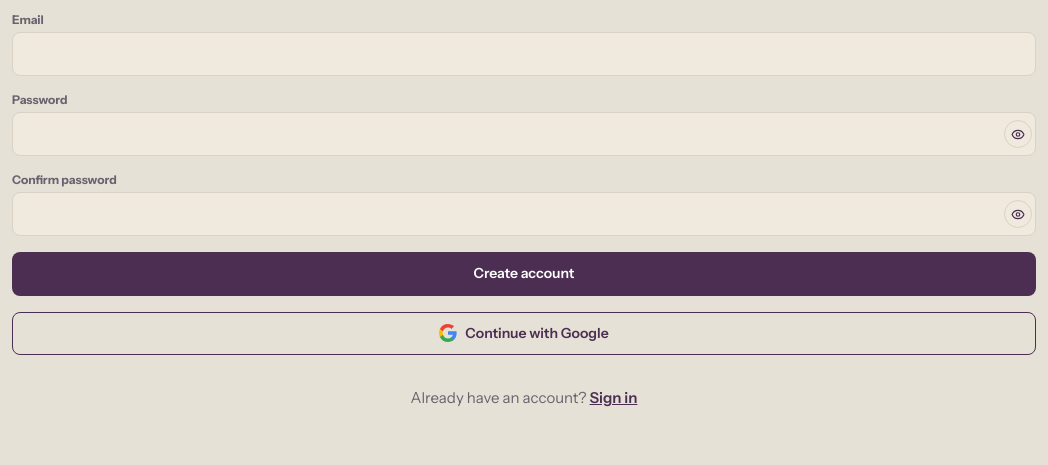
Test: SignUpForm › blocks submission and shows all field errors when the passwords don't match
Type "new@example.com" into the field labelled "Email" at (524, 54), box [12,32,1036,76]
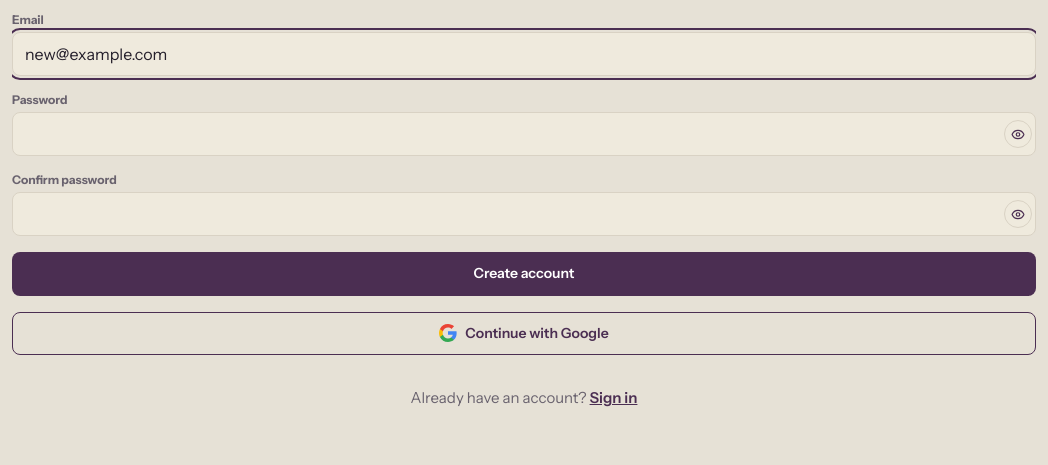
Type "longenough" into the password field labelled "Password" at (524, 134), box [12,112,1036,156]
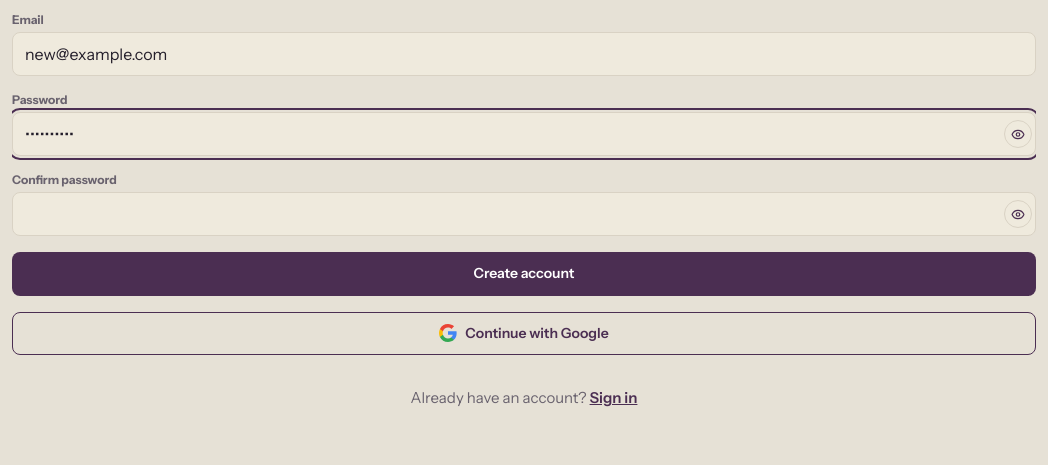
Type "different" into the password field labelled "Confirm password" at (524, 214), box [12,192,1036,236]
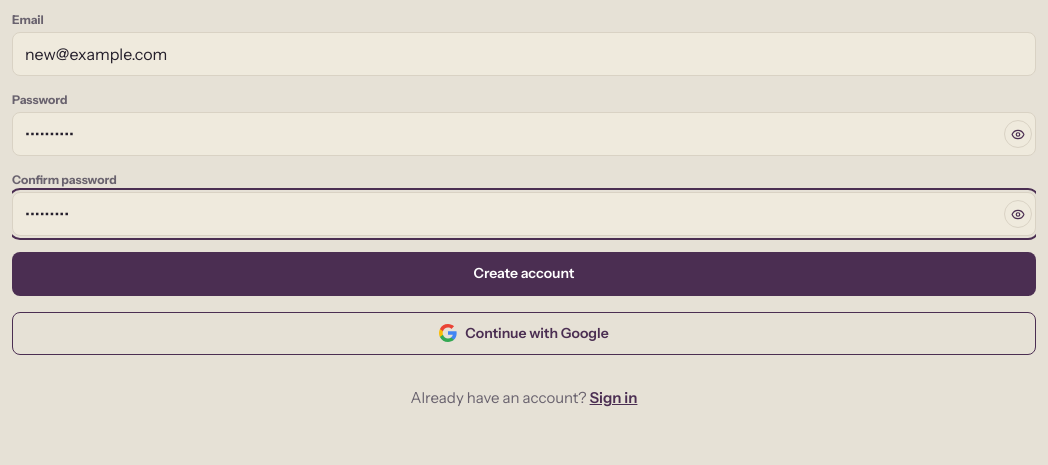
Click the button "Create account" at (524, 274), box [12,252,1036,296]
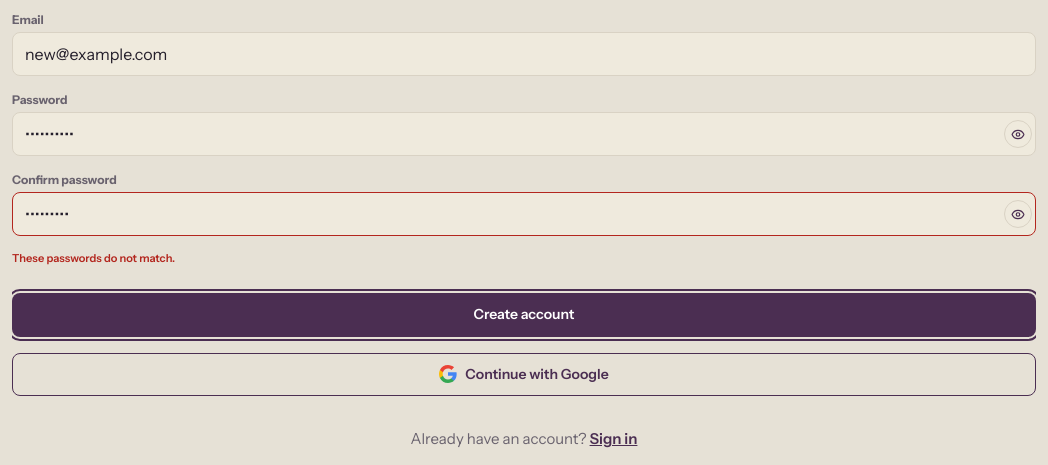
expect the text "These passwords do not match." is shown: met, box [12,251,175,265]
